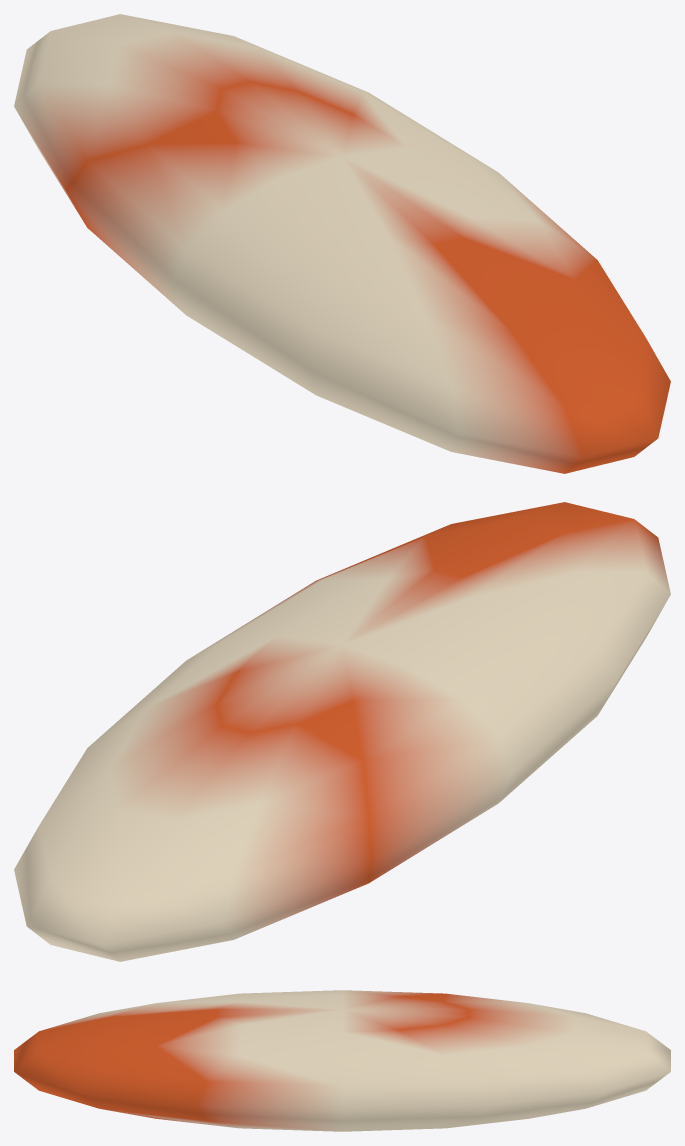
Rendered from koi-body.glb.
The picture shows the model from 3 angles, top to bottom: view 1: azimuth 30°, elevation 25°; view 2: azimuth 150°, elevation 25°; view 3: azimuth 270°, elevation 25°; orthographic projection. The views are drawn at different scales.
Bounding box in the file's own units: 0.13 × 0.064 × 0.3705.
